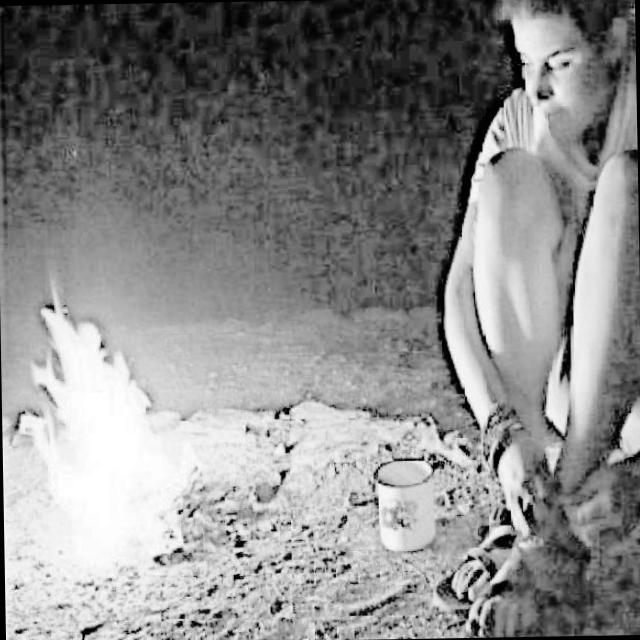Person: (425, 0, 640, 638)
